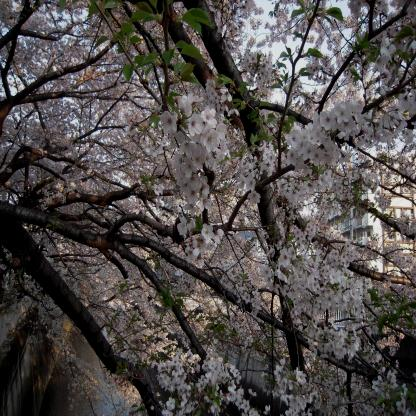Someiyoshino: (2, 2, 415, 414)
